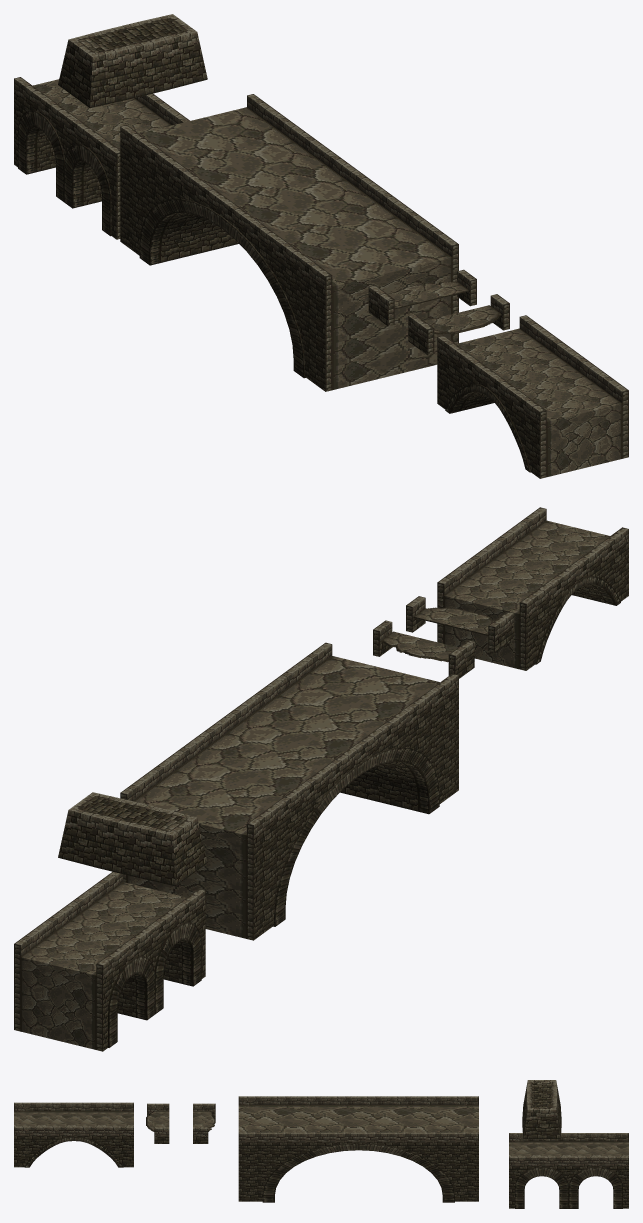
The model's file is EnvObjMD_Bridge_C.FBX.
The picture shows the model from 3 angles, top to bottom: view 1: azimuth 30°, elevation 25°; view 2: azimuth 150°, elevation 25°; view 3: azimuth 270°, elevation 25°; orthographic projection. The views are drawn at different scales.
Parts seen in each view (by area): view 1: EnvObjMD_Bridge_C_Wide, EnvObjMD_Bridge_C, EnvObjMD_Bridge_C_Double, EnvObjMD_Bridge_C_Base, EnvObjMD_Bridge_C_RightEdge, EnvObjMD_Bridge_C_LeftEdge; view 2: EnvObjMD_Bridge_C_Wide, EnvObjMD_Bridge_C_Double, EnvObjMD_Bridge_C, EnvObjMD_Bridge_C_Base, EnvObjMD_Bridge_C_RightEdge, EnvObjMD_Bridge_C_LeftEdge; view 3: EnvObjMD_Bridge_C_Wide, EnvObjMD_Bridge_C_Double, EnvObjMD_Bridge_C, EnvObjMD_Bridge_C_Base, EnvObjMD_Bridge_C_RightEdge, EnvObjMD_Bridge_C_LeftEdge.
Part boxes in pixels (<box>): EnvObjMD_Bridge_C_Wide: <box>120,94,458,391</box>; EnvObjMD_Bridge_C: <box>437,315,628,478</box>; EnvObjMD_Bridge_C_Double: <box>14,77,189,239</box>; EnvObjMD_Bridge_C_Base: <box>58,14,207,108</box>; EnvObjMD_Bridge_C_RightEdge: <box>408,294,509,355</box>; EnvObjMD_Bridge_C_LeftEdge: <box>368,269,476,326</box>; EnvObjMD_Bridge_C_Wide: <box>120,642,458,940</box>; EnvObjMD_Bridge_C_Double: <box>14,871,205,1051</box>; EnvObjMD_Bridge_C: <box>437,507,628,670</box>; EnvObjMD_Bridge_C_Base: <box>58,792,207,886</box>; EnvObjMD_Bridge_C_RightEdge: <box>406,596,514,652</box>; EnvObjMD_Bridge_C_LeftEdge: <box>373,620,474,678</box>; EnvObjMD_Bridge_C_Wide: <box>238,1096,478,1202</box>; EnvObjMD_Bridge_C_Double: <box>509,1133,628,1208</box>; EnvObjMD_Bridge_C: <box>14,1102,133,1167</box>; EnvObjMD_Bridge_C_Base: <box>522,1080,561,1138</box>; EnvObjMD_Bridge_C_RightEdge: <box>146,1103,169,1143</box>; EnvObjMD_Bridge_C_LeftEdge: <box>193,1103,215,1143</box>.
Size of the model in its own units: 610 by 741 by 4098.
1 material, 1 textured.
